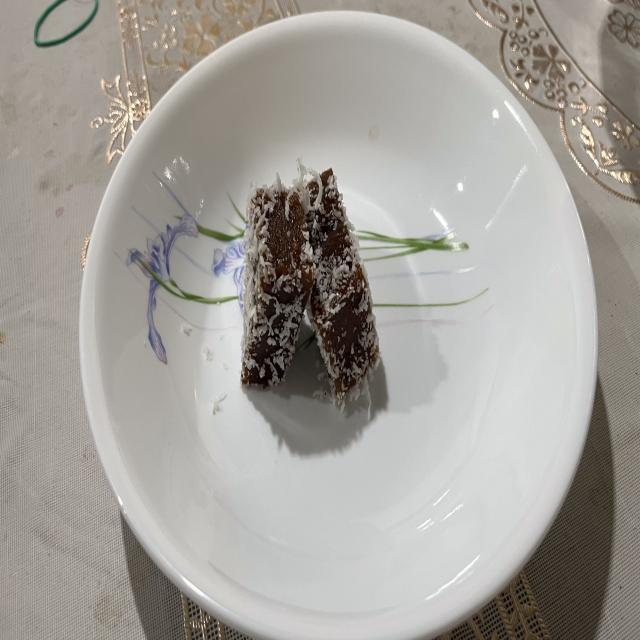kaswi: (307, 168, 380, 408), (240, 188, 315, 388)
